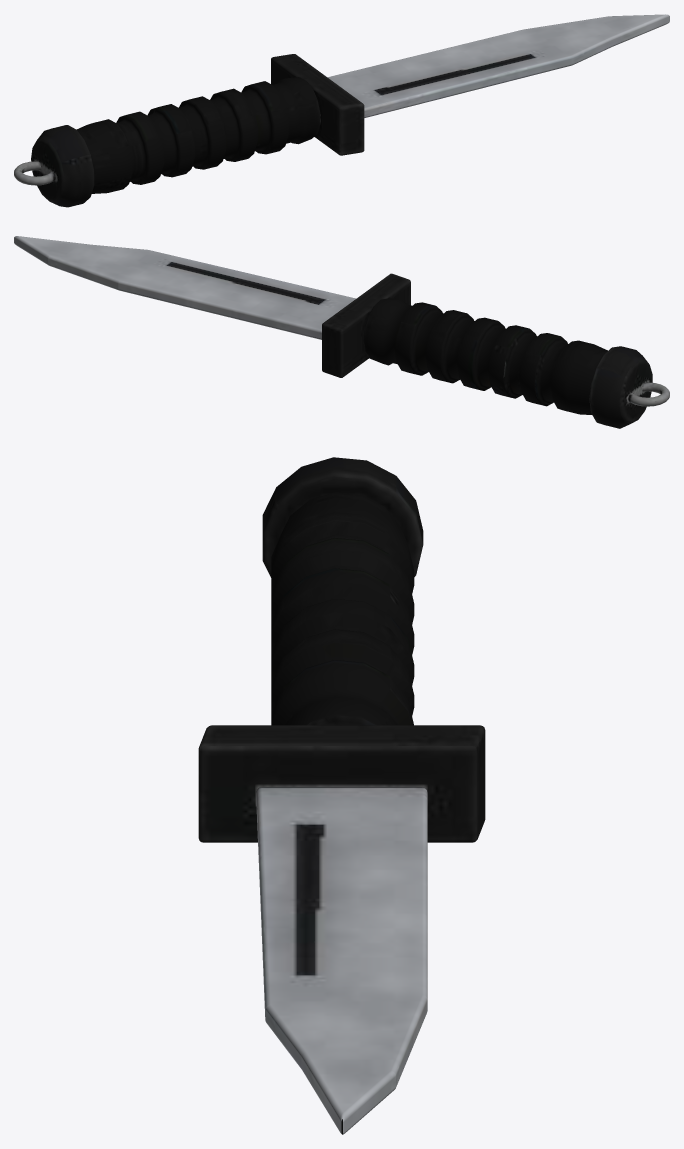
File: knife.glb
The picture shows the model from 3 angles, top to bottom: view 1: azimuth 30°, elevation 25°; view 2: azimuth 150°, elevation 25°; view 3: azimuth 270°, elevation 25°; orthographic projection. The views are drawn at different scales.
Parts seen in each view (by area): view 1: knife; view 2: knife; view 3: knife.
Boxes of the visible parts, x1,y1,x2,y2 form: knife: (14, 14, 669, 207); knife: (14, 236, 669, 428); knife: (198, 457, 485, 1134).
Bounding box in the file's own units: 0.3343 × 0.0358 × 0.0636.
1 material, 1 textured.
